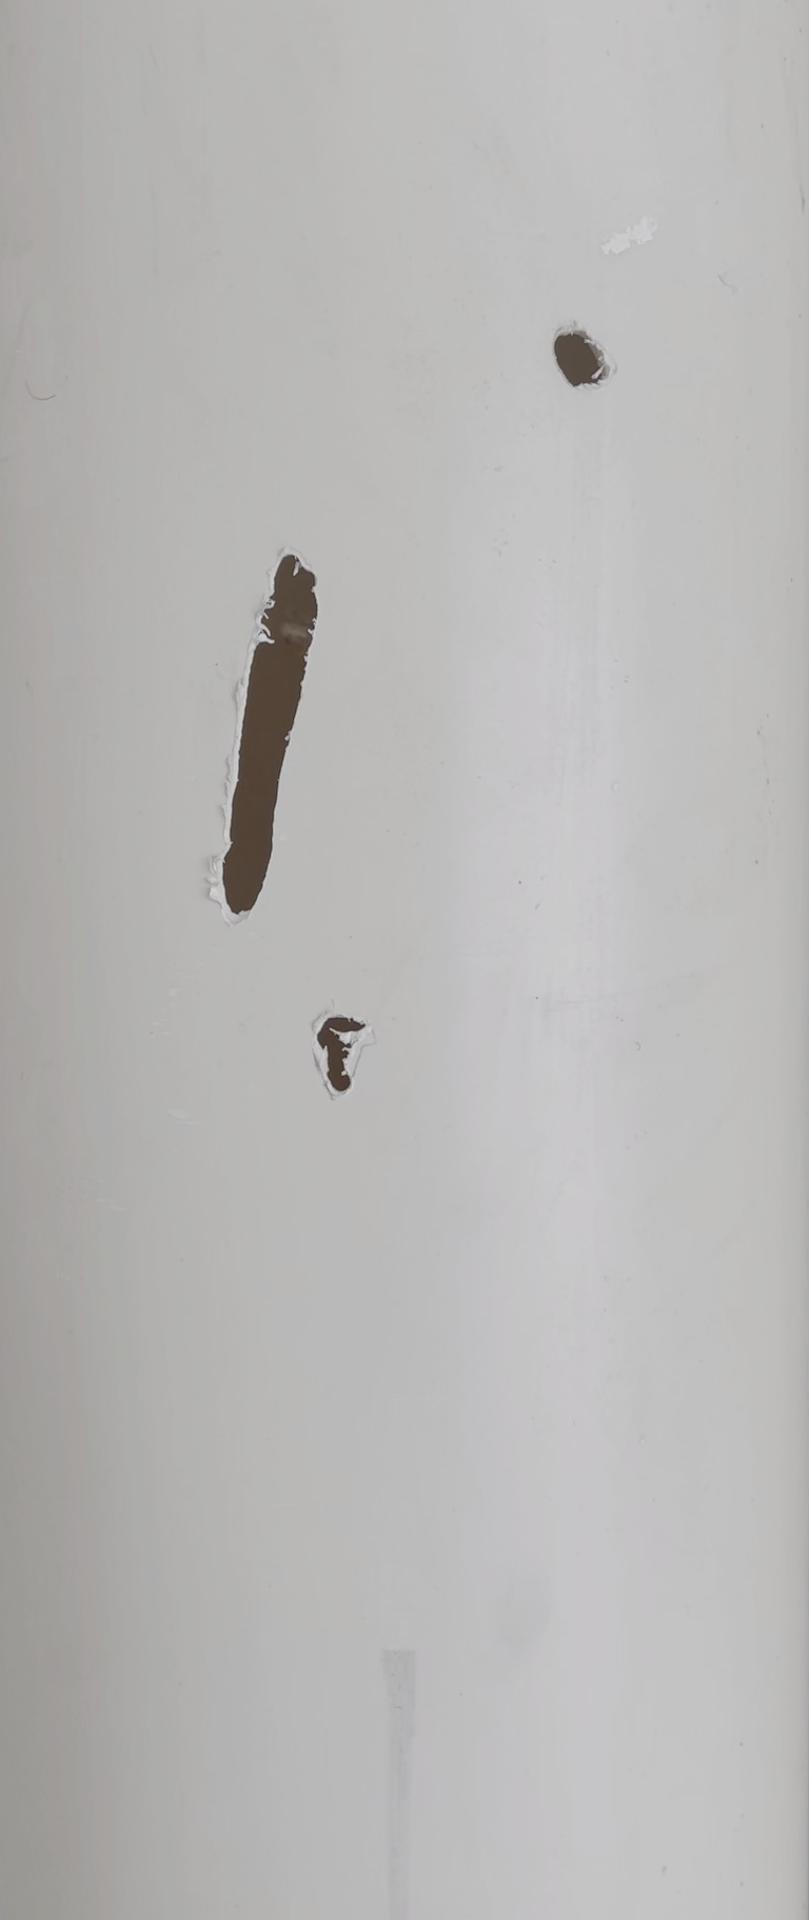fengxi: (195, 527, 329, 929)
kongdong: (297, 1007, 365, 1100), (545, 313, 617, 397)
